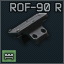Reptilia ROF-90 RMR mount for Geissele scope mounts DDC: (0, 0, 64, 64)
